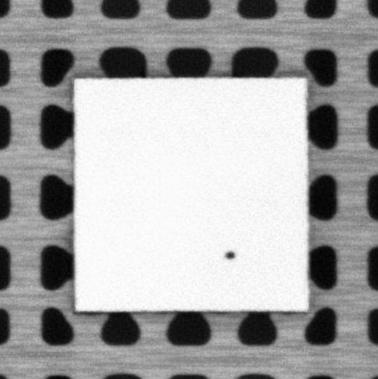DIE_INK: (222, 248, 237, 263)
